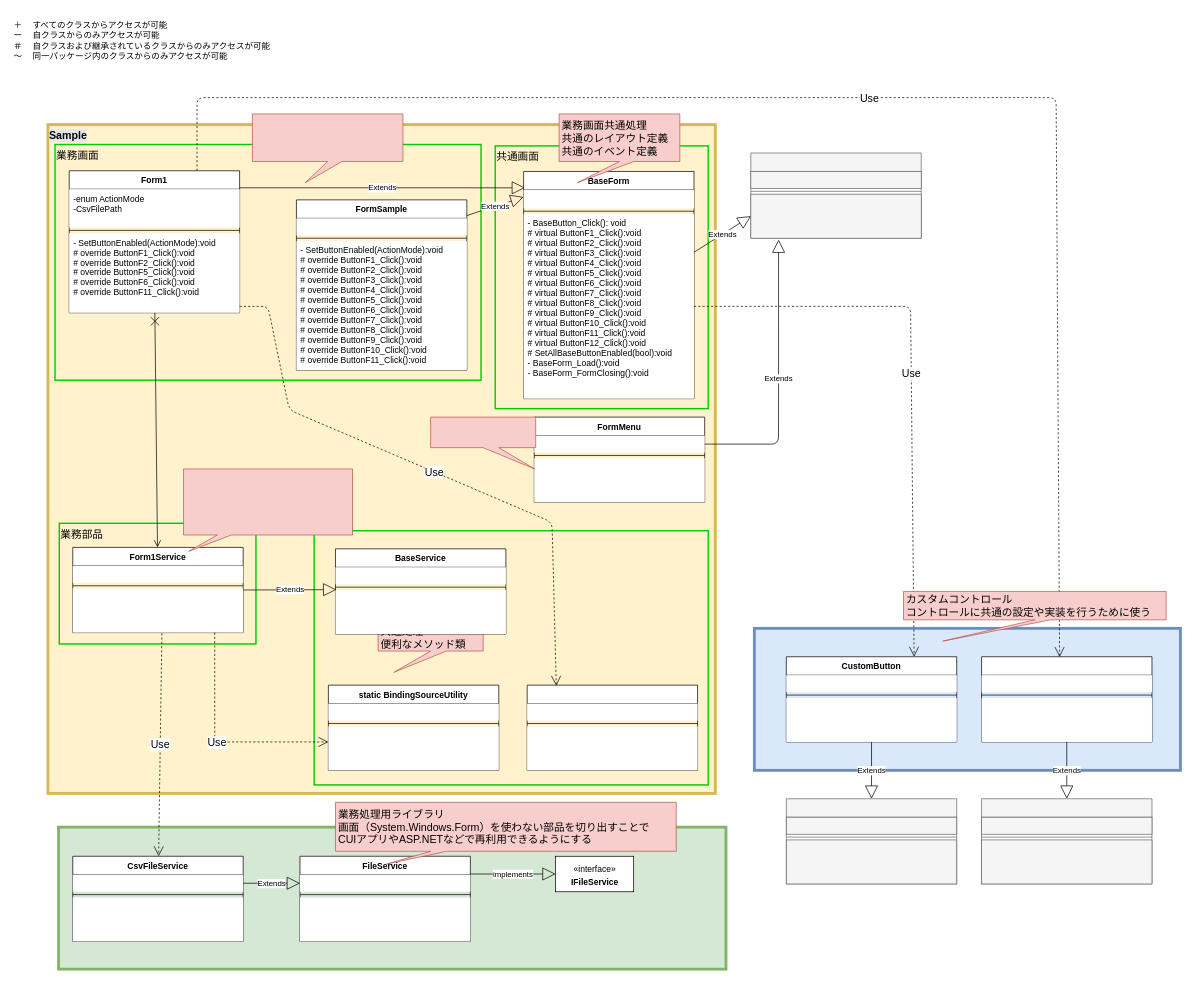
Some shapes in this 1194 by 983 pixel diagram are drawn without their labels. The box of each missing label's shape, as (x1, y1, x2, y2) in pixels:
-enum ActionMode: (296, 218, 466, 235)
Button: (786, 798, 957, 884)
CustomDataGridView: (981, 656, 1152, 742)
DataGridView: (981, 798, 1152, 884)
Form: (750, 152, 921, 238)
SampleLibrary: (57, 825, 727, 970)
static FormUtility: (526, 684, 698, 770)
WindowsFormsControlLibrary: (753, 627, 1181, 771)
メニュー画面はあえて独立させてみた: (430, 416, 536, 469)
共通部品: (313, 530, 709, 785)
業務処理（Model） Controllerからデータを受け取り 処理を行う: (183, 468, 353, 551)
画面情報の取得・設定(View) 画面イベント処理(Controller) データを詰めてModelに渡す: (252, 113, 403, 183)
